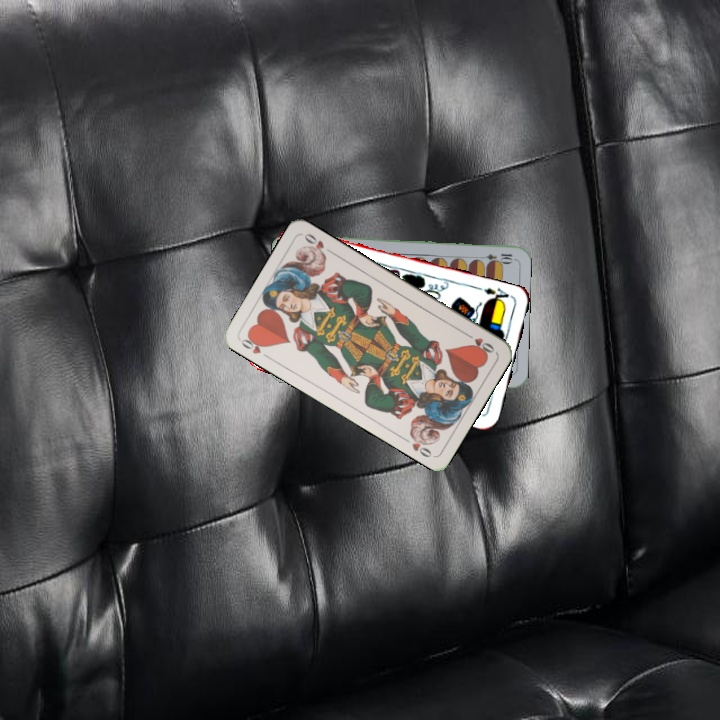E10: (474, 249, 515, 263)
EA: (480, 283, 515, 306)
HO: (236, 331, 273, 362), (461, 329, 497, 356)
